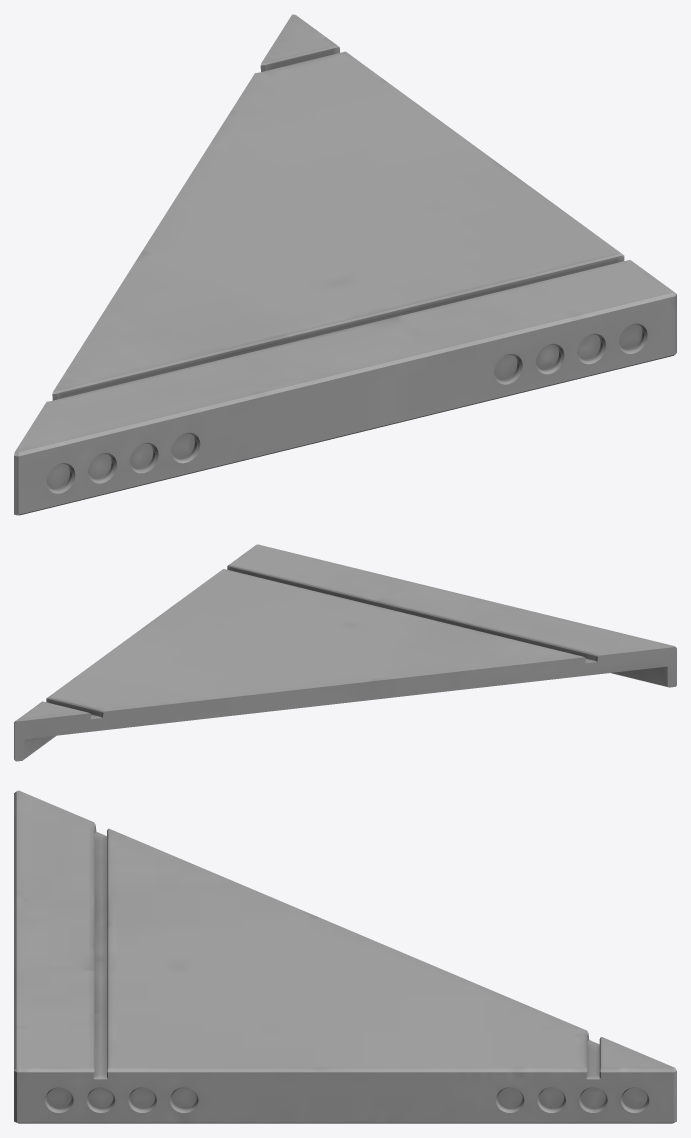
File: SM_RoofTriangle_SF_b28860.glb
3 renders of one model, top to bottom at view 1: azimuth 30°, elevation 25°; view 2: azimuth 150°, elevation 25°; view 3: azimuth 270°, elevation 25°, orthographic. The views are drawn at different scales.
Bounding box in the file's own units: 3.98 × 0.3598 × 3.98.
1 material, 1 textured.
